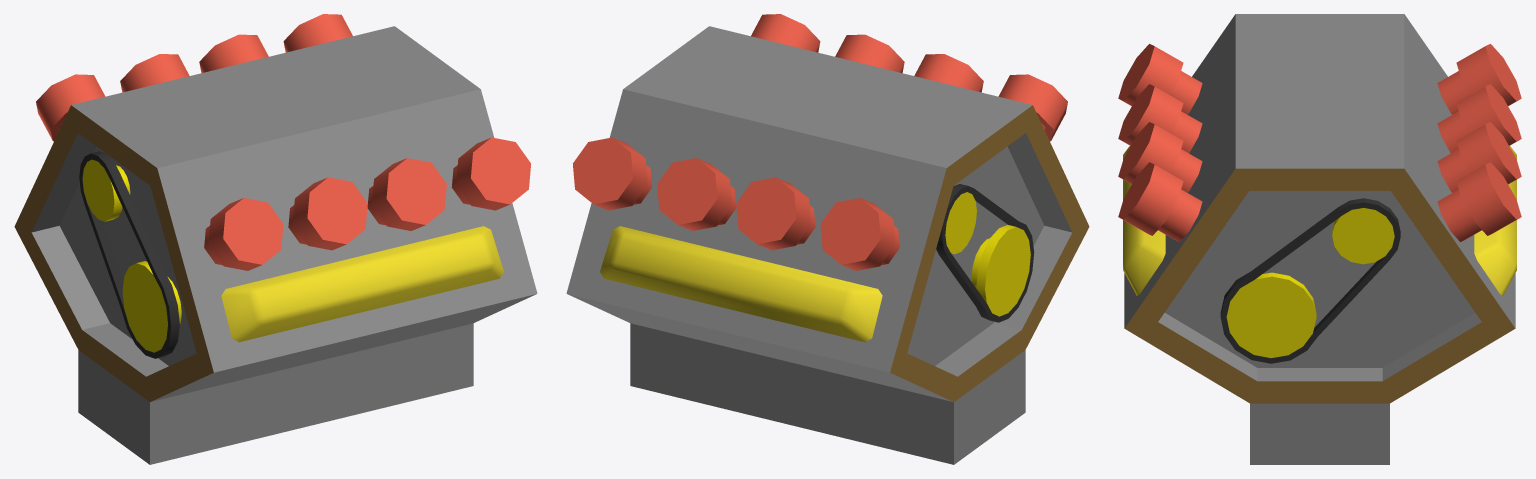
File: engine_6.fbx
3 views of the same model, side by side, from view 1: azimuth 30°, elevation 25°; view 2: azimuth 150°, elevation 25°; view 3: azimuth 270°, elevation 25° (orthographic). The views are drawn at different scales.
Visible parts, largest first — view 1: engine_6; view 2: engine_6; view 3: engine_6.
Boxes of the visible parts, x1=… form: engine_6: x1=14, y1=14, x2=537, y2=464; engine_6: x1=566, y1=14, x2=1089, y2=464; engine_6: x1=1118, y1=14, x2=1521, y2=464.
Bounding box in the file's own units: 164 × 146 × 180.
